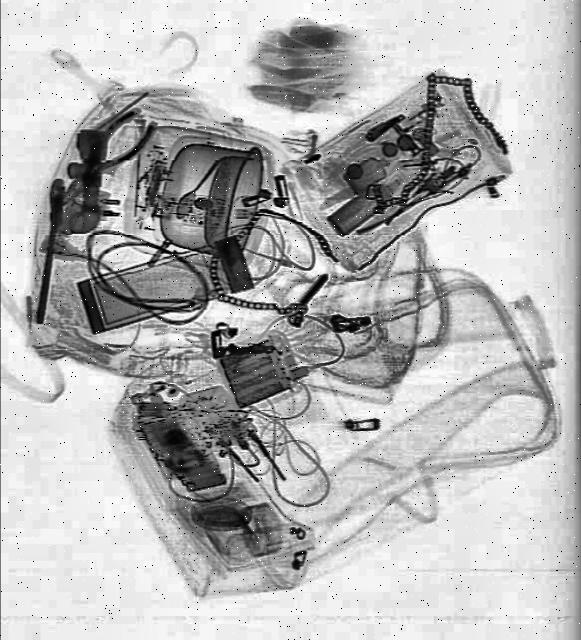Pliers: (45, 105, 161, 222)
